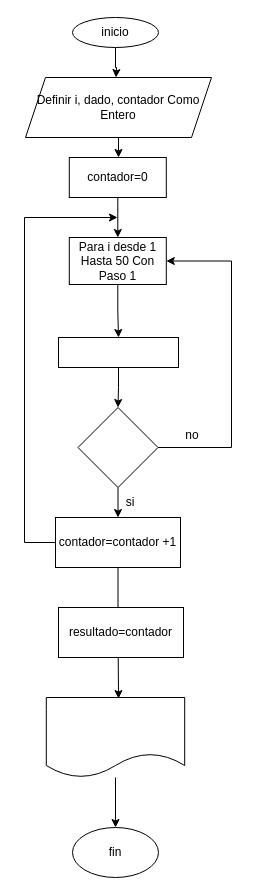
The diagram is 257 pixels wide and 895 high, and some of its shapes have lost their labels. The shapes that lost their labels are listed below. From the top down, each one's centre as x and y in pixels, then its label:
pixel 118 352: dado=Aleatorio(1,6)
pixel 117 447: dado=1?
pixel 115 737: "El número 1 salió ", resultado, " veces en 50 lanzamientos."
